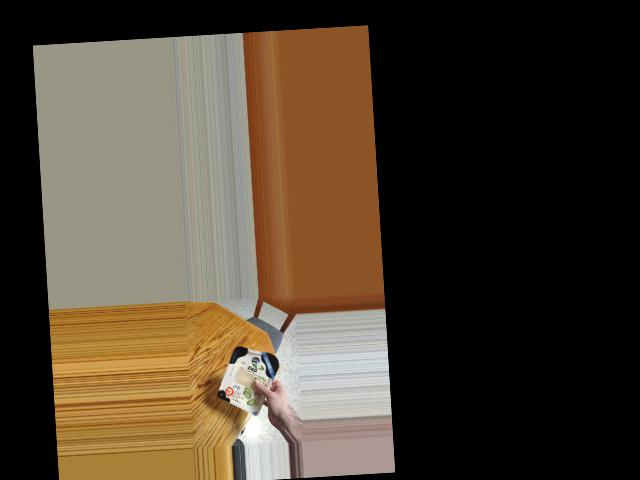cheese: (218, 343, 285, 410)
